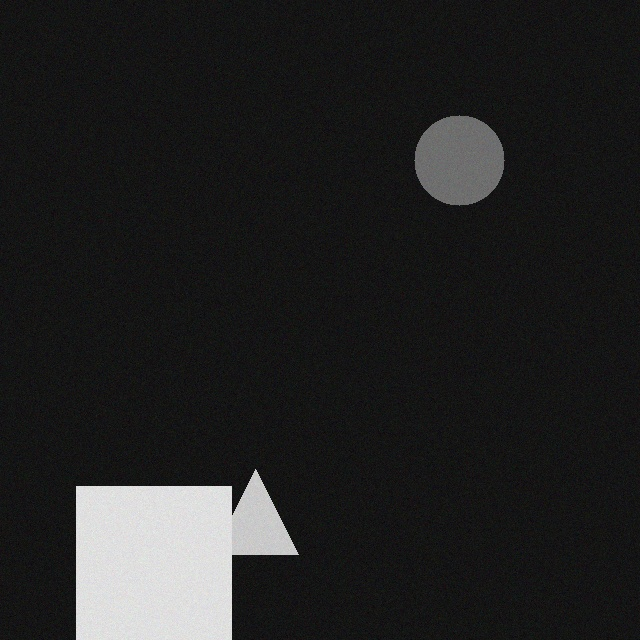circle: (418, 112, 508, 202)
square: (80, 483, 235, 638)
triangle: (217, 466, 302, 551)
